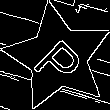P_NE: (27, 26, 89, 89)
